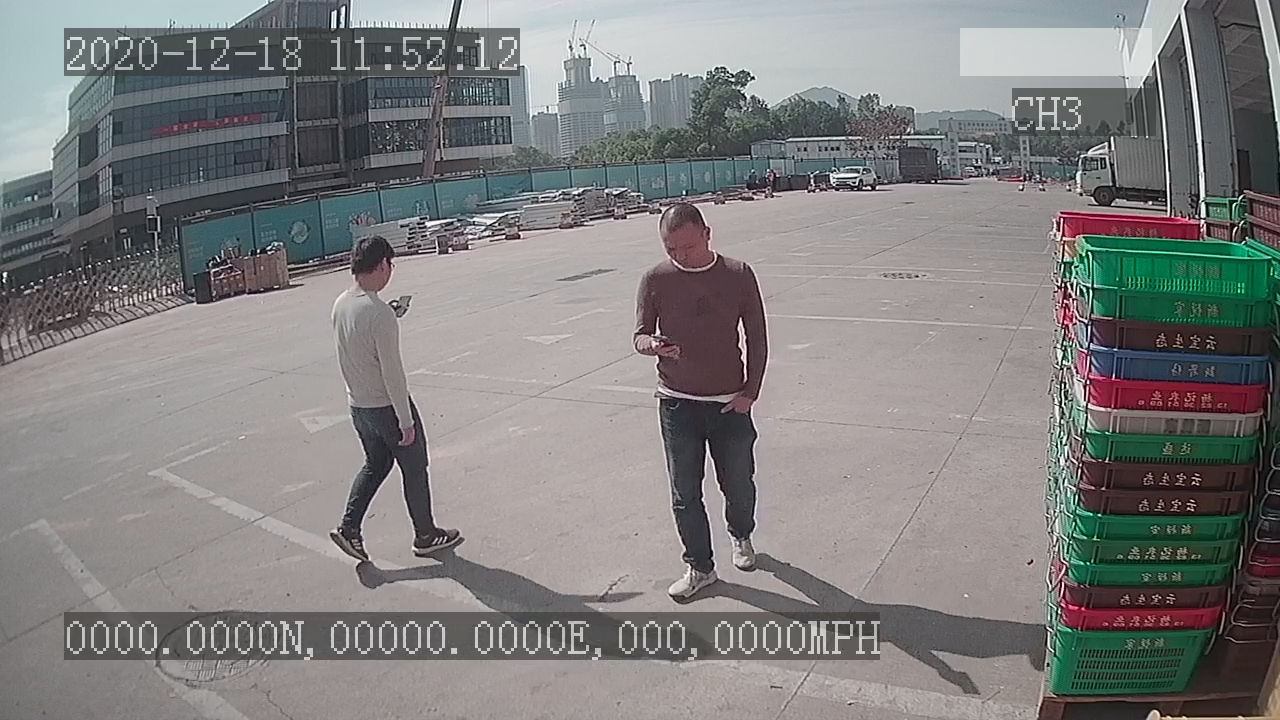person: (626, 195, 776, 611), (322, 227, 467, 574)
